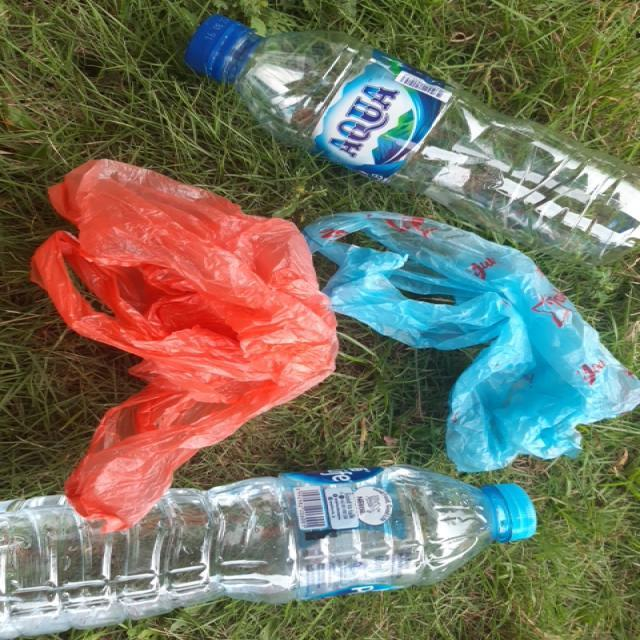Single-layer Plastic: (31, 160, 338, 531), (304, 212, 640, 472)
